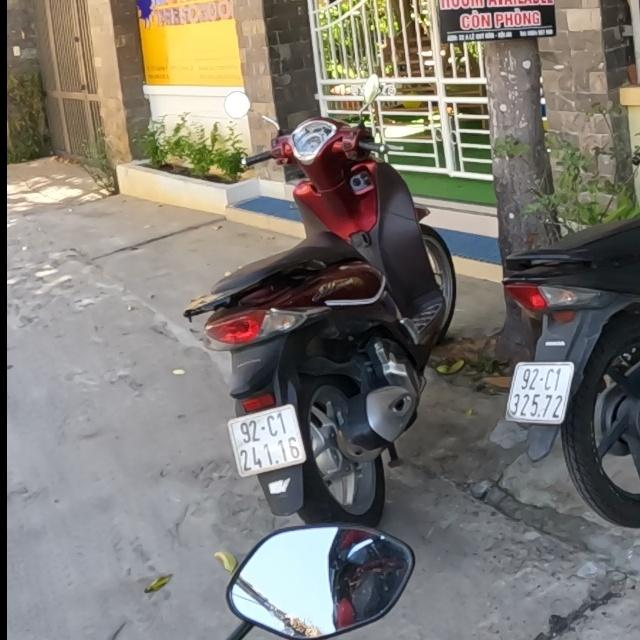license-plate: (224, 403, 309, 480), (503, 360, 575, 426)
